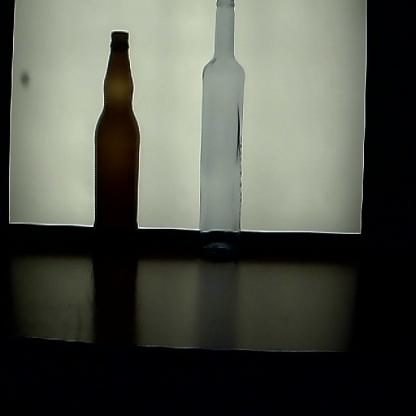Can: (198, 2, 247, 264), (93, 31, 144, 272)
